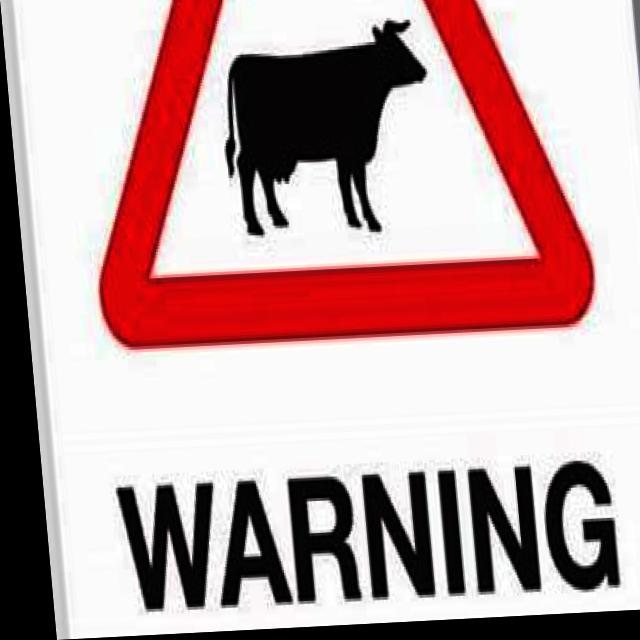CATTLE: (65, 0, 592, 364)
